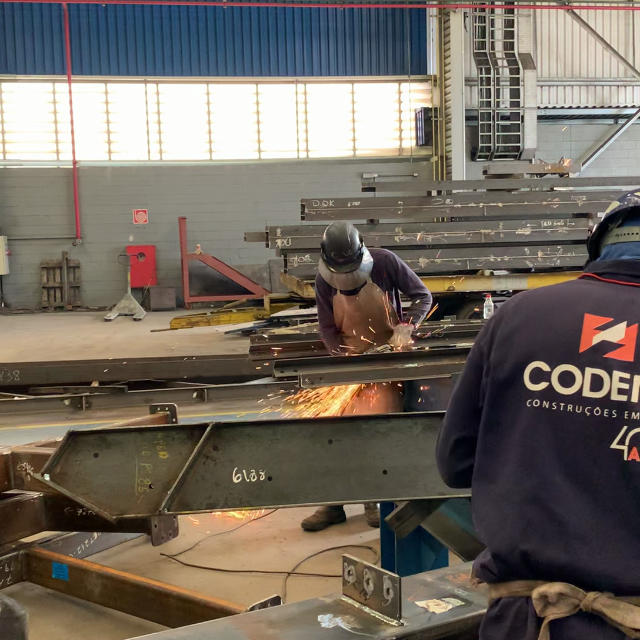face-shield: (316, 246, 374, 290)
glove: (386, 323, 414, 351)
helmet: (587, 191, 640, 261), (319, 222, 363, 275)
person: (434, 188, 640, 633), (315, 220, 432, 349)
